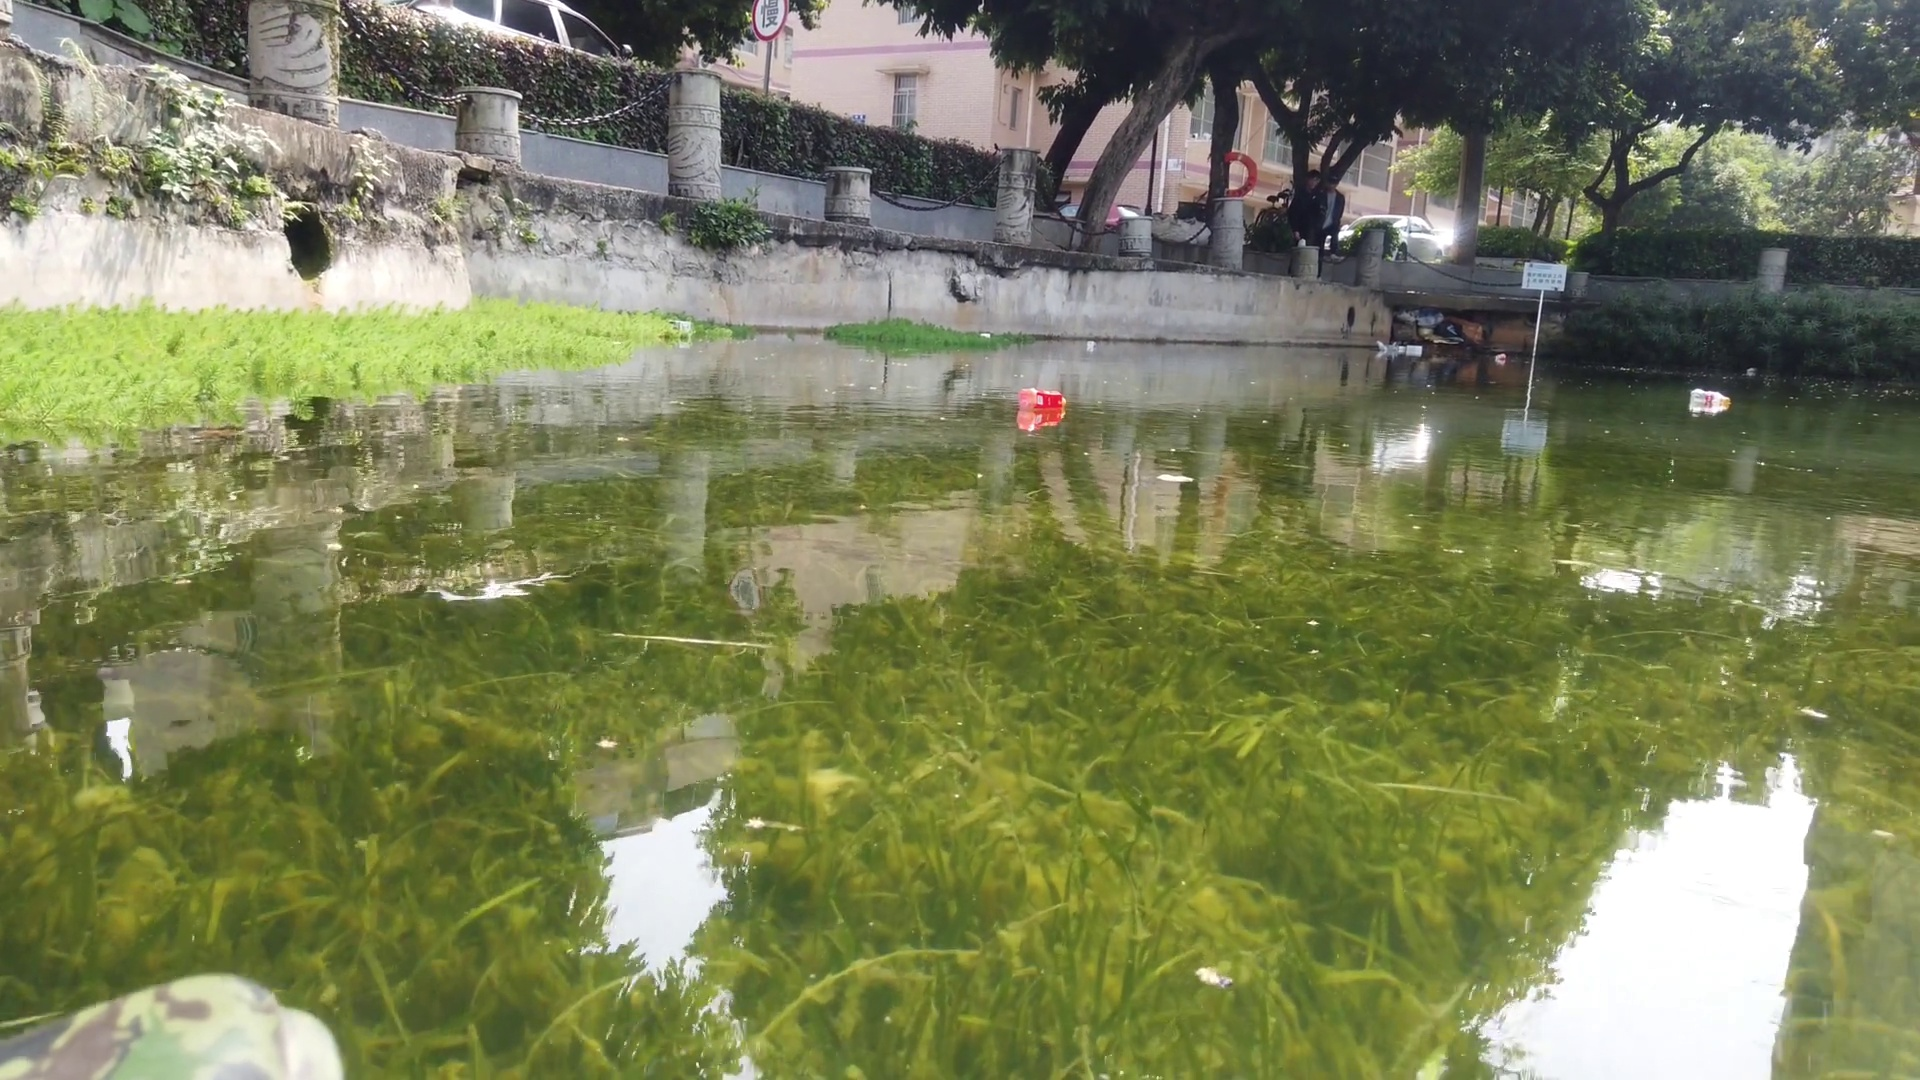bottle: (1011, 382, 1072, 410), (1685, 386, 1727, 405), (1491, 349, 1509, 365), (1746, 365, 1756, 376)
carton: (662, 315, 694, 338), (977, 330, 994, 347), (1404, 342, 1422, 353), (1087, 338, 1098, 352)
plastic: (1373, 334, 1400, 352)
